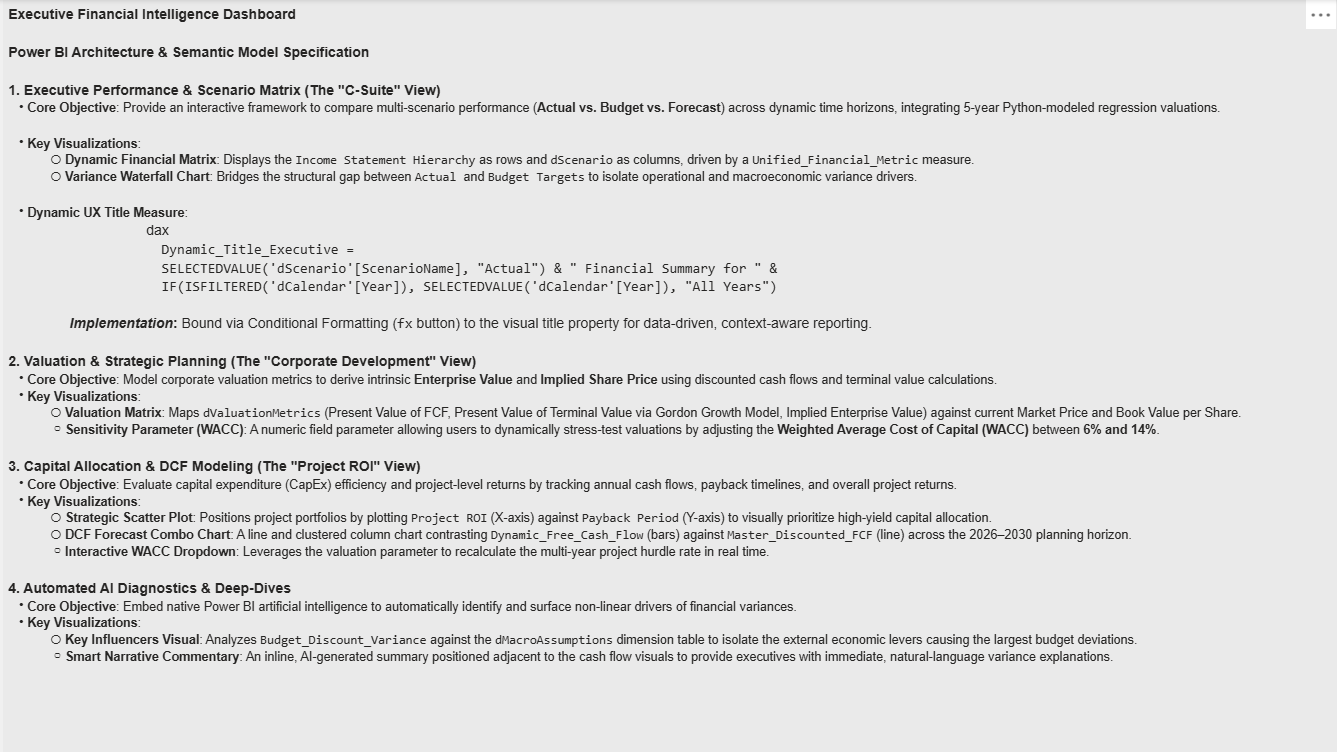

What the dashboard file says about the page in this screenshot:
{"tool":"powerbi","page":{"name":"Interactive Dashboard Structure","canvas":[1280,720],"ordinal":0},"visuals":[{"type":"textbox","box":[9.1,0,1271.2,719.5],"z":0}]}

Visuals, with their boxes on the page's 1280x720 design canvas (x1, y1, x2, y2). These are canvas units, not pixel positions in the 1337x752 screenshot, which may show the page scaled, cropped or inside an application window:
textbox: [9, 0, 1280, 720]
